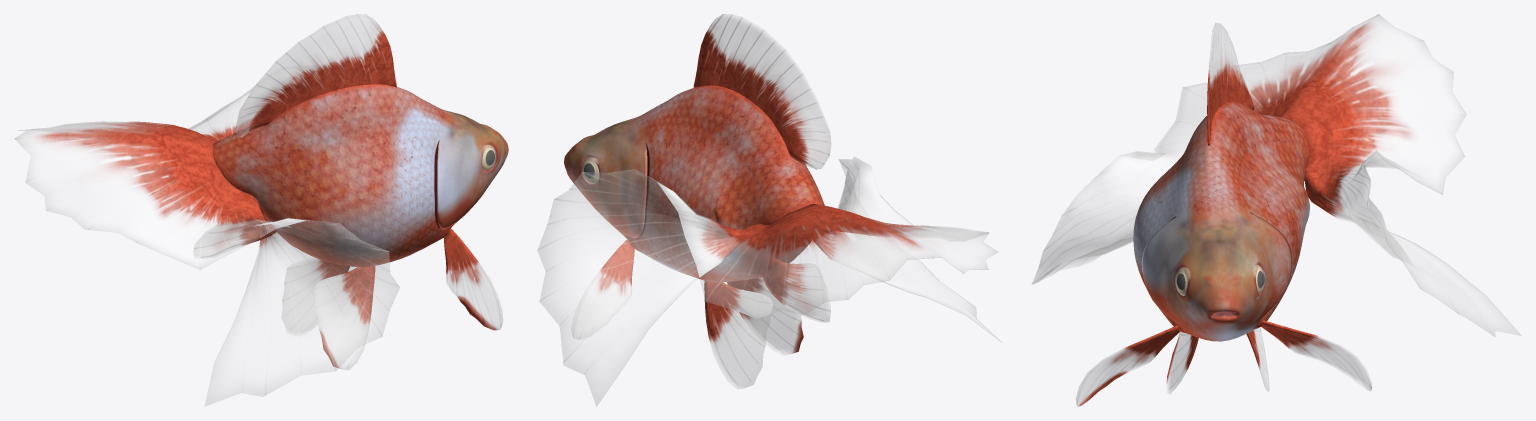
File: tosakin-packed-v1.glb
3 renders of one model, left to right at view 1: azimuth 30°, elevation 25°; view 2: azimuth 150°, elevation 25°; view 3: azimuth 270°, elevation 25°, orthographic. The views are drawn at different scales.
Visible parts, largest first — view 1: SW_Tosakin_finCaudalB_M_TosakinFins_0, SW_Tosakin_body_M_TosakinBody_0, SW_Tosakin_finDorsalB_M_TosakinFins_0, SW_Tosakin_finPelvicB_M_TosakinFins_0, SW_Tosakin_finPectoralB_M_TosakinFins_0, SW_Tosakin_finAnalB_M_TosakinFins_0; view 2: SW_Tosakin_finCaudalB_M_TosakinFins_0, SW_Tosakin_body_M_TosakinBody_0, SW_Tosakin_finDorsalB_M_TosakinFins_0, SW_Tosakin_finPelvicB_M_TosakinFins_0, SW_Tosakin_finPectoralB_M_TosakinFins_0, SW_Tosakin_finAnalB_M_TosakinFins_0; view 3: SW_Tosakin_finCaudalB_M_TosakinFins_0, SW_Tosakin_body_M_TosakinBody_0, SW_Tosakin_finPectoralB_M_TosakinFins_0, SW_Tosakin_finDorsalB_M_TosakinFins_0, SW_Tosakin_finPelvicB_M_TosakinFins_0.
Boxes of the visible parts, x1,y1,x2,y2 form: SW_Tosakin_finCaudalB_M_TosakinFins_0: (14,63,399,406); SW_Tosakin_body_M_TosakinBody_0: (212,83,508,267); SW_Tosakin_finDorsalB_M_TosakinFins_0: (235,14,396,137); SW_Tosakin_finPelvicB_M_TosakinFins_0: (281,258,375,370); SW_Tosakin_finPectoralB_M_TosakinFins_0: (444,228,502,330); SW_Tosakin_finAnalB_M_TosakinFins_0: (193,215,276,258); SW_Tosakin_finCaudalB_M_TosakinFins_0: (537,157,1001,406); SW_Tosakin_body_M_TosakinBody_0: (564,85,824,282); SW_Tosakin_finDorsalB_M_TosakinFins_0: (693,14,831,169); SW_Tosakin_finPelvicB_M_TosakinFins_0: (704,278,803,389); SW_Tosakin_finPectoralB_M_TosakinFins_0: (571,239,634,339); SW_Tosakin_finAnalB_M_TosakinFins_0: (763,258,830,322); SW_Tosakin_finCaudalB_M_TosakinFins_0: (1031,14,1521,336); SW_Tosakin_body_M_TosakinBody_0: (1133,101,1309,341); SW_Tosakin_finPectoralB_M_TosakinFins_0: (1076,320,1371,406); SW_Tosakin_finDorsalB_M_TosakinFins_0: (1207,22,1254,145); SW_Tosakin_finPelvicB_M_TosakinFins_0: (1166,327,1269,393).
Size of the model in its own units: 2 by 1.48 by 1.75.
Materials: 6 (2 with a texture image).
